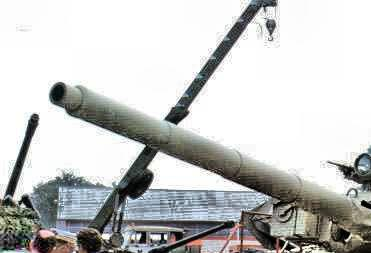tanks: (53, 85, 371, 253), (293, 252, 296, 253)
